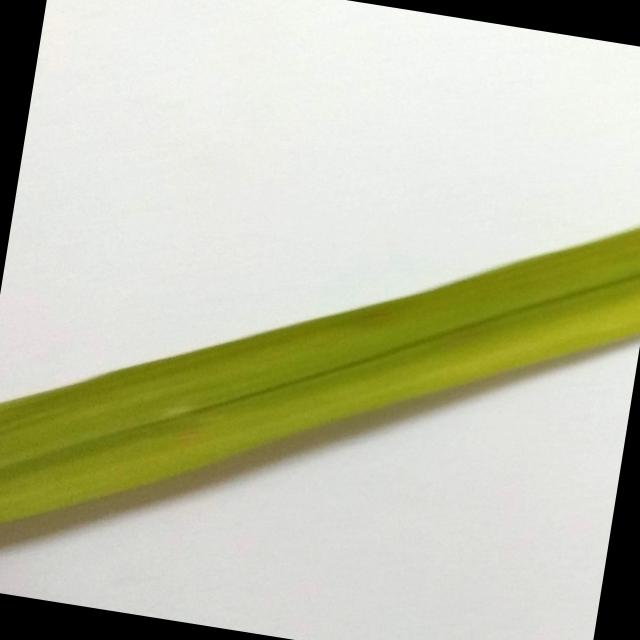Rice_Healthy: (0, 228, 640, 525)
